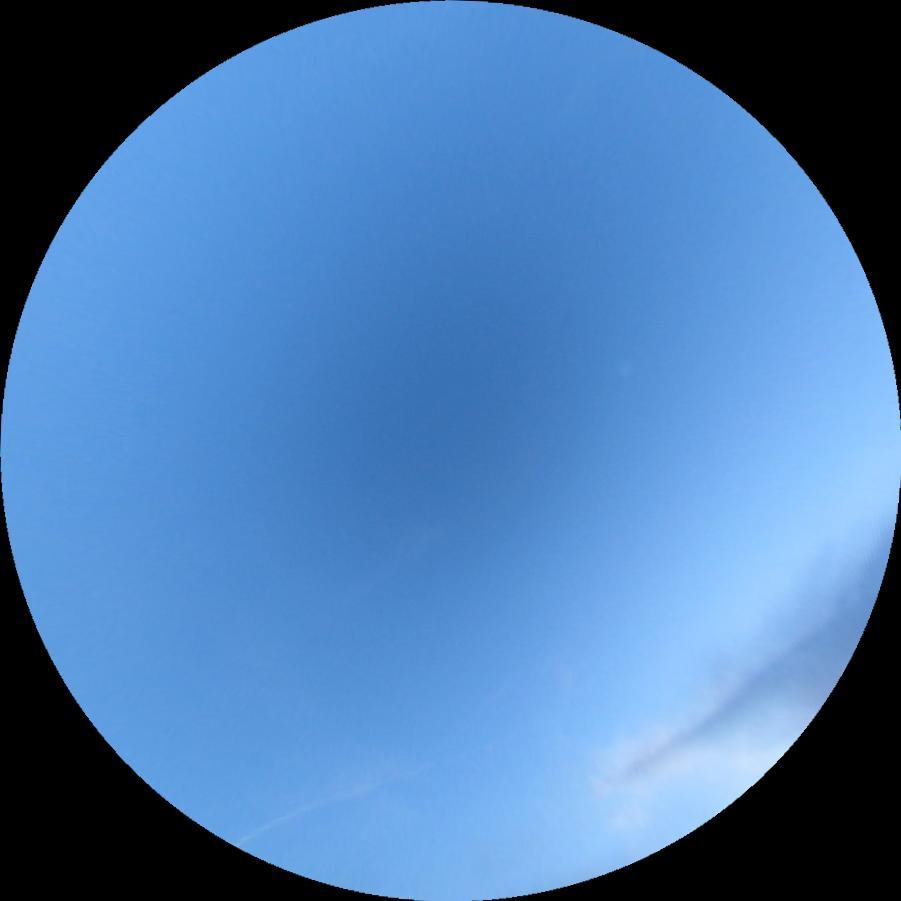unknow: (227, 763, 410, 851)
